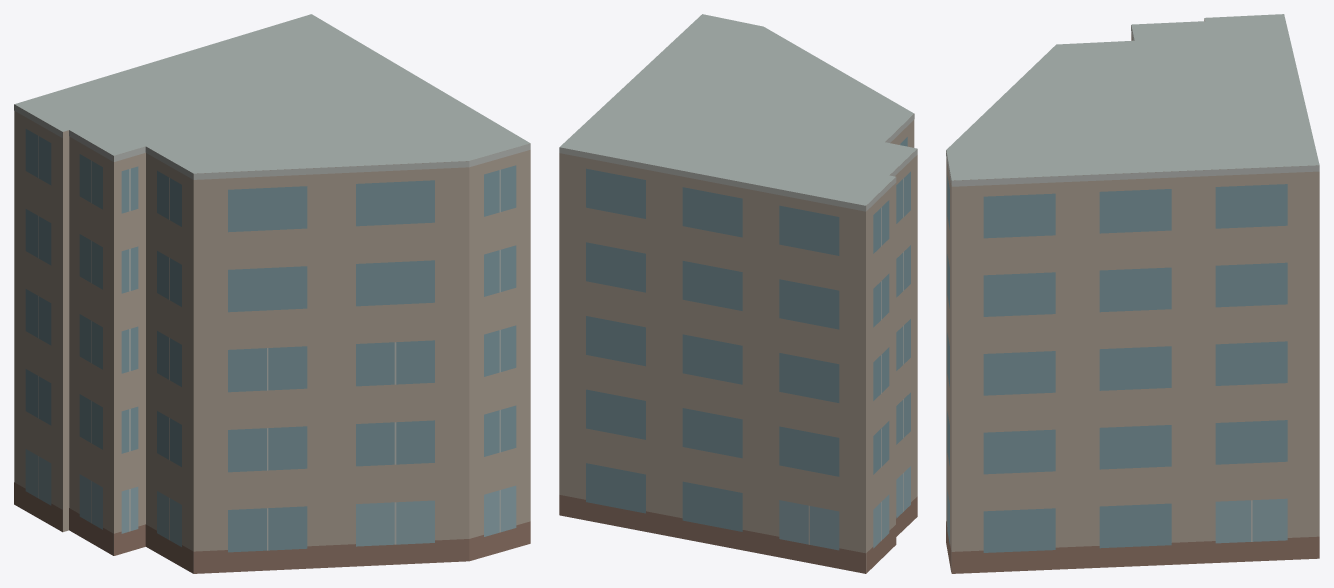
Rendered from survey-upis-32663332.glb.
3 views of the same model, side by side, from view 1: azimuth 30°, elevation 25°; view 2: azimuth 150°, elevation 25°; view 3: azimuth 270°, elevation 25° (orthographic). The views are drawn at different scales.
Parts seen in each view (by area): view 1: survey-upis-32663332.tmp; view 2: survey-upis-32663332.tmp; view 3: survey-upis-32663332.tmp.
Boxes of the visible parts, x1,y1,x2,y2 form: survey-upis-32663332.tmp: [14, 14, 530, 573]; survey-upis-32663332.tmp: [559, 14, 917, 573]; survey-upis-32663332.tmp: [946, 14, 1319, 573].
Size of the model in its own units: 13.95 by 15.35 by 13.22.
